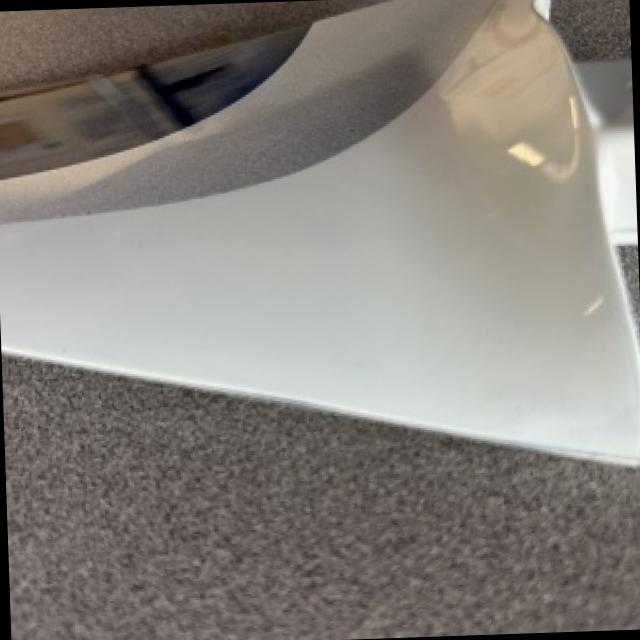healthy: (0, 0, 640, 460)
